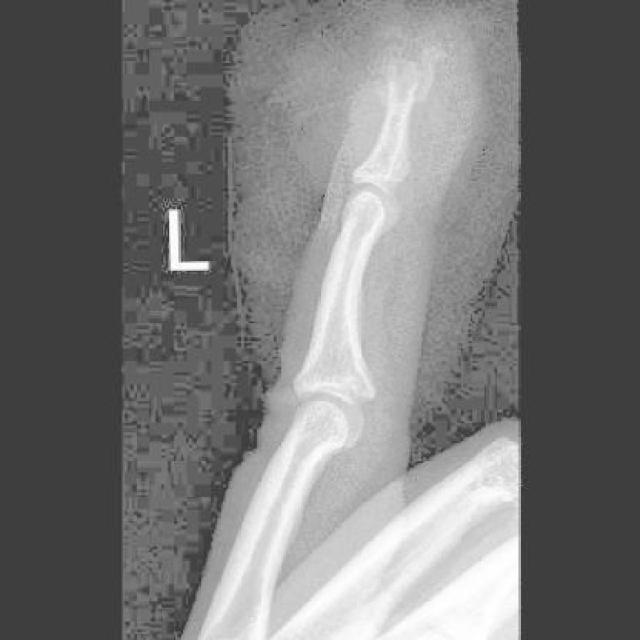Fracture: (377, 36, 445, 110)
